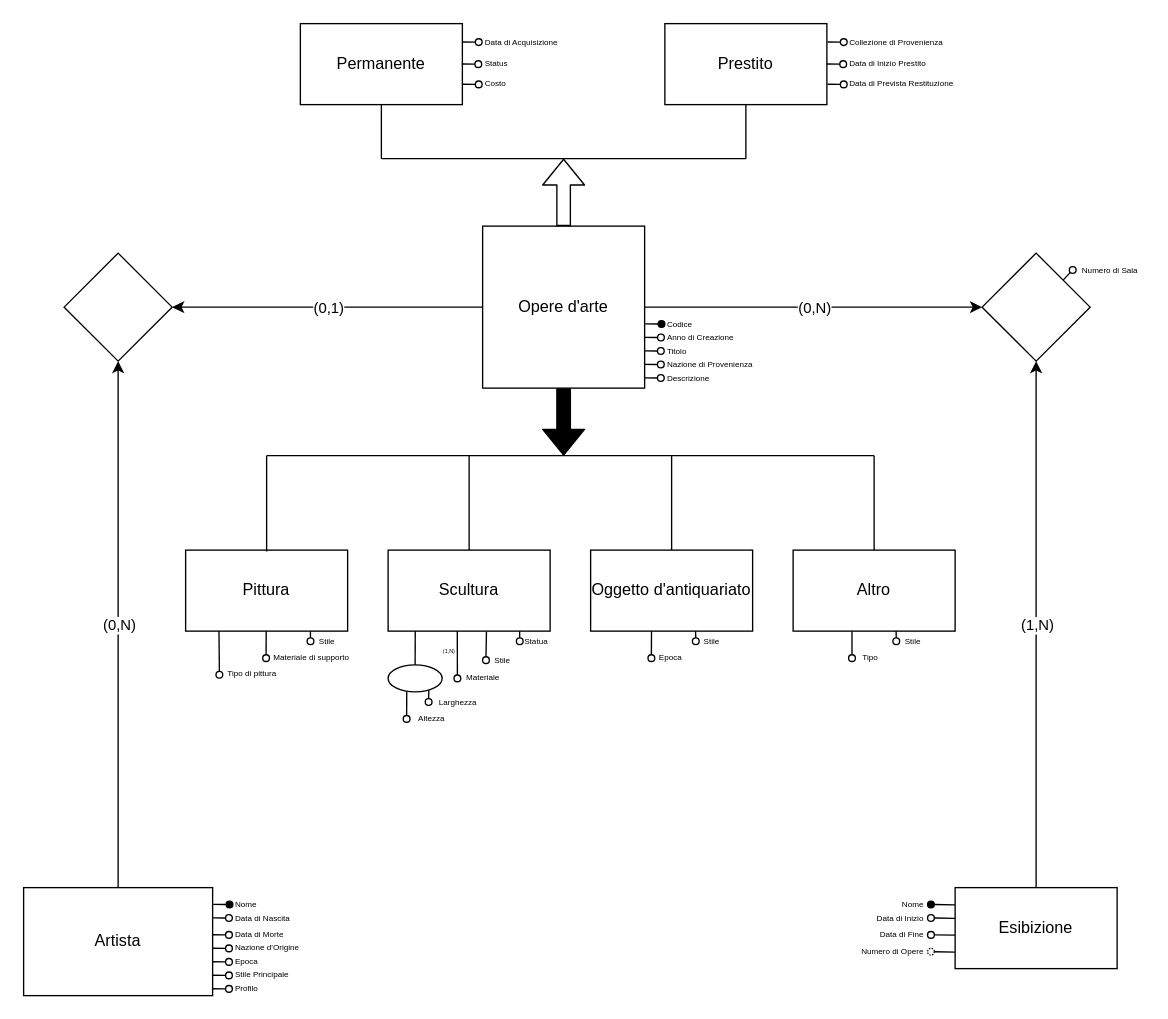
Image size: 1168x1019. Some labels were removed from this diagram. The centre of each missing label's shape, as x and y in pixels:
Dimensione: (414,678)
Esposta: (1035,306)
Realizzato: (117,306)
